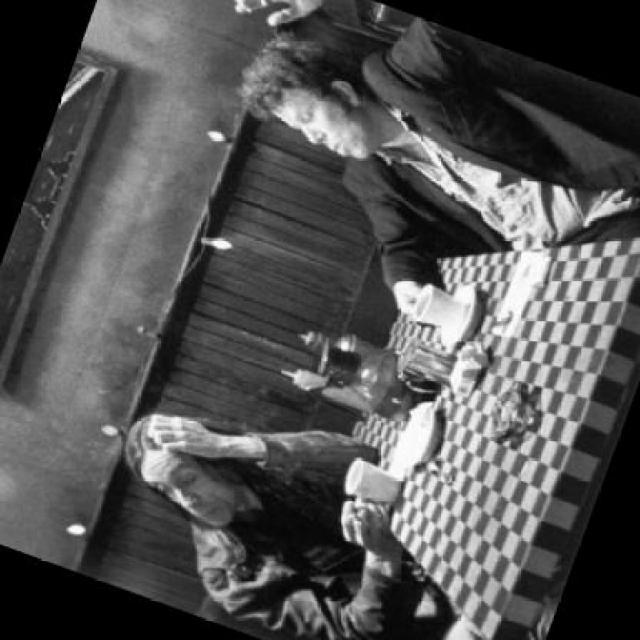smoke: (207, 0, 260, 12)
